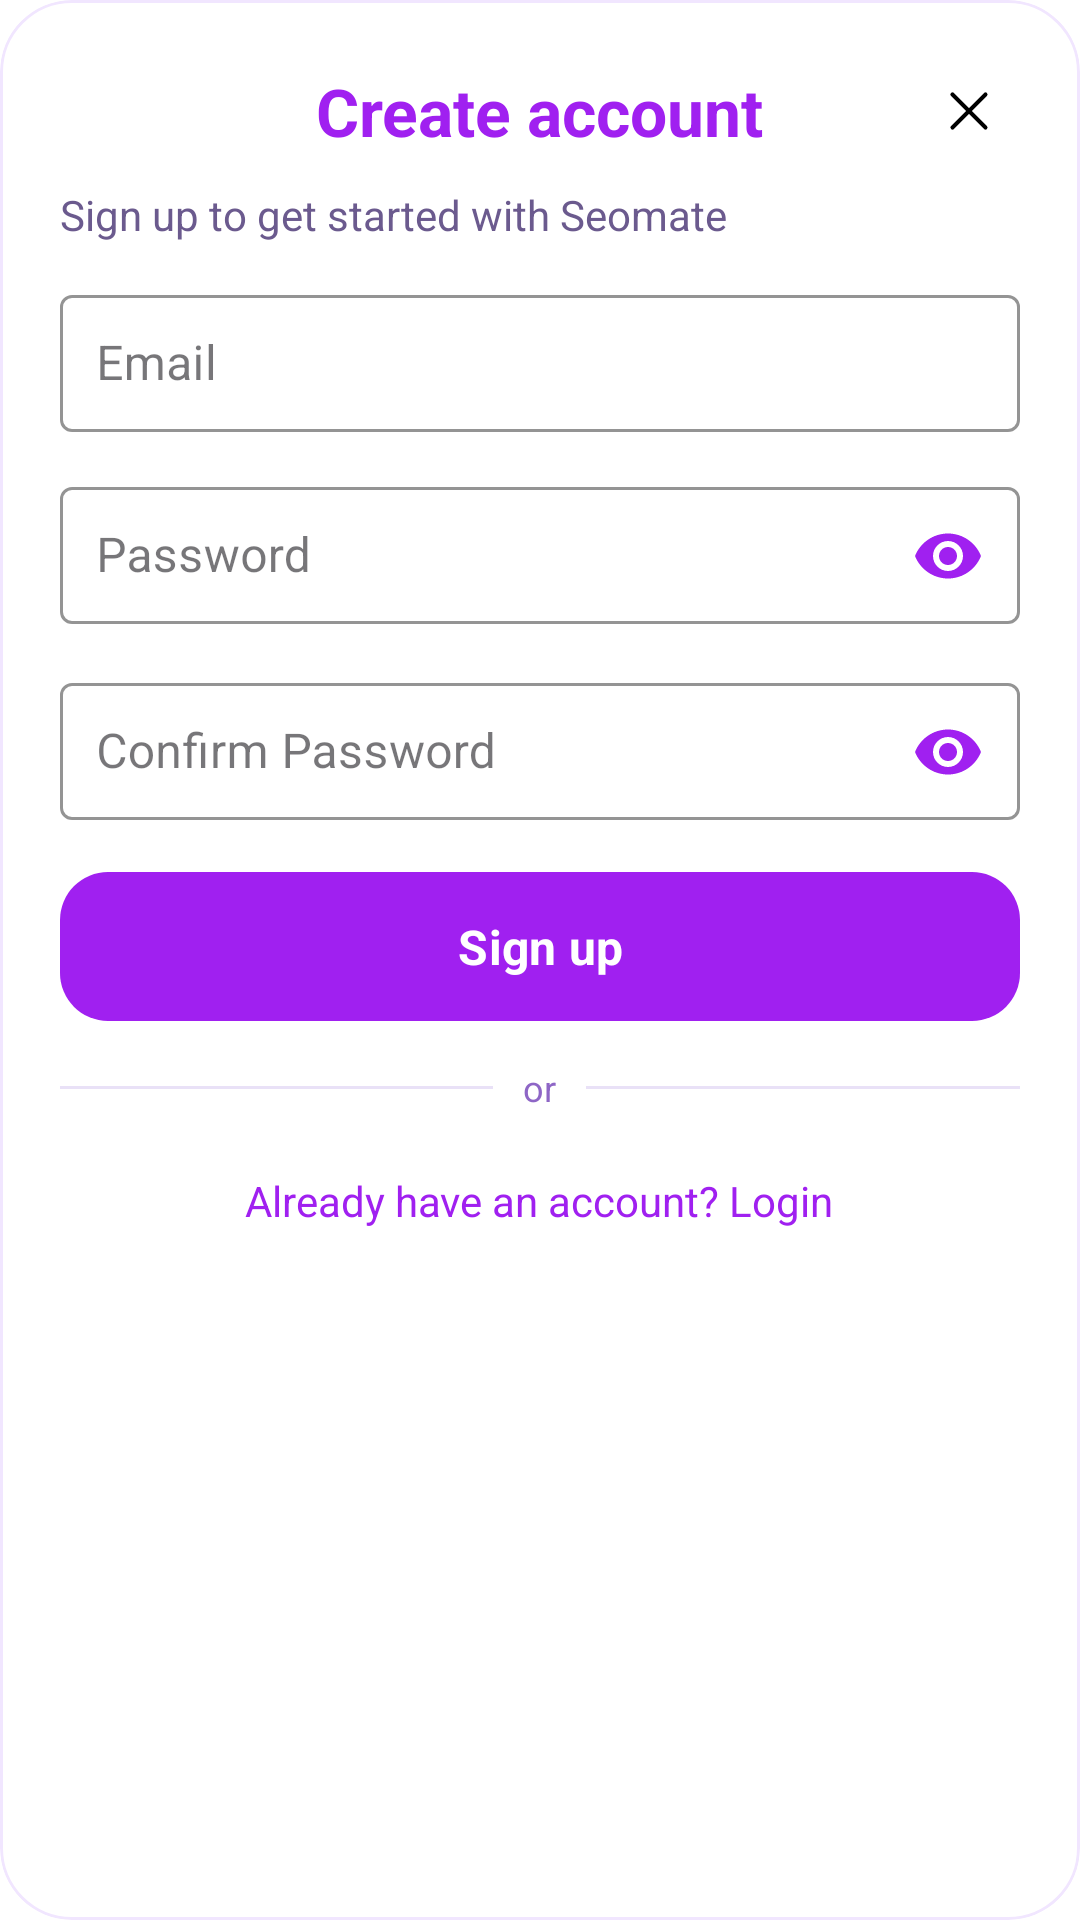

Where icons sit on this 1080 × 1920 app screen, as region(x1, y1, x2, y2):
Close: region(950, 92, 988, 130)
